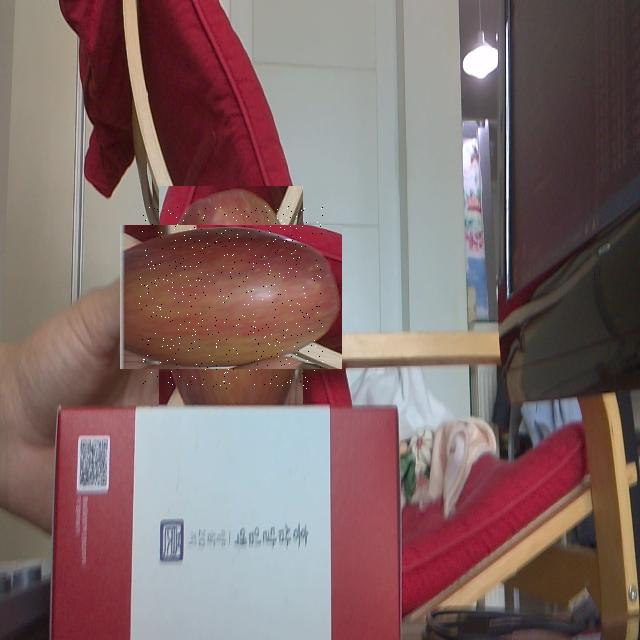apple: (139, 206, 323, 389)
